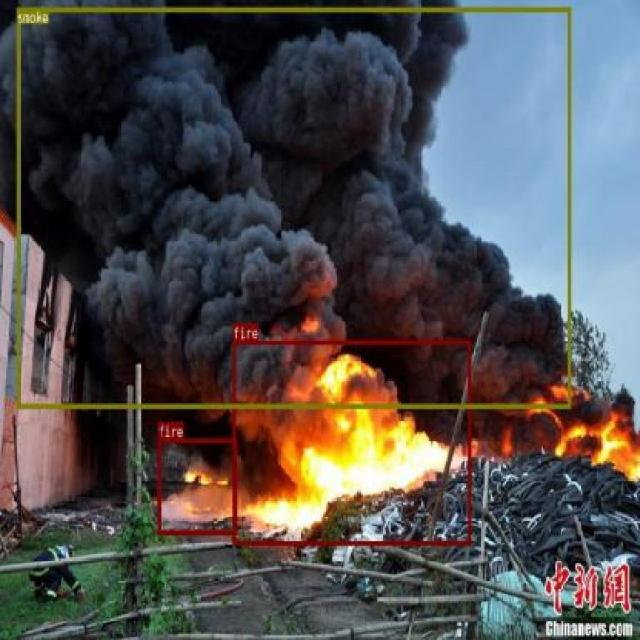Fire: (232, 340, 470, 545), (157, 438, 237, 534)
Smoke: (16, 6, 570, 408)
